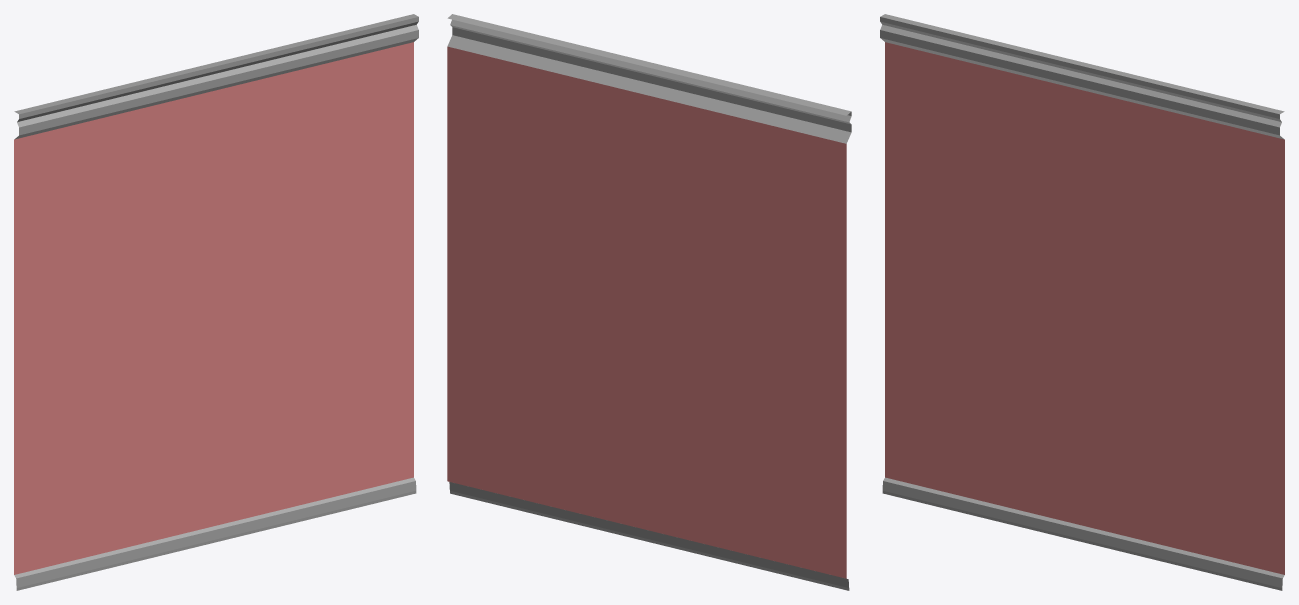
File: WallMesh.fbx
3 renders of one model, left to right at view 1: azimuth 30°, elevation 25°; view 2: azimuth 150°, elevation 25°; view 3: azimuth 330°, elevation 25°, orthographic.
Visible parts, largest first — view 1: WallPiece; view 2: WallPiece; view 3: WallPiece.
Part boxes in pixels (box(x1,y1,x2,y2)): WallPiece: box(14, 14, 418, 590); WallPiece: box(447, 14, 851, 590); WallPiece: box(880, 14, 1284, 590).
Bounding box in the file's own units: 2000 × 2287 × 43.1.
